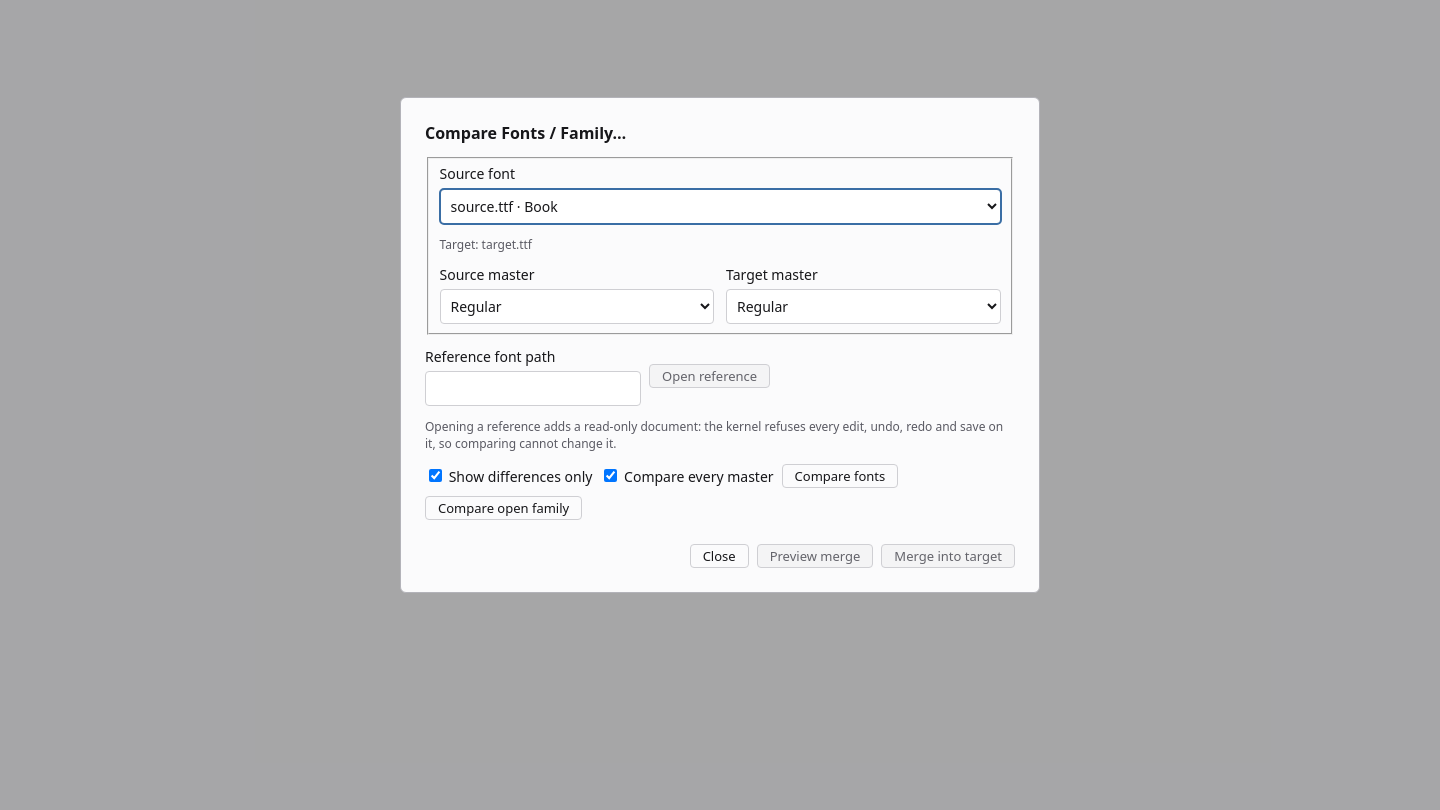
Scenario: opens a reference binary read-only and says so beside the source
In the field labelled "Reference font path": (533, 388) [425, 371, 641, 406], type "/fonts/Reference.otf"
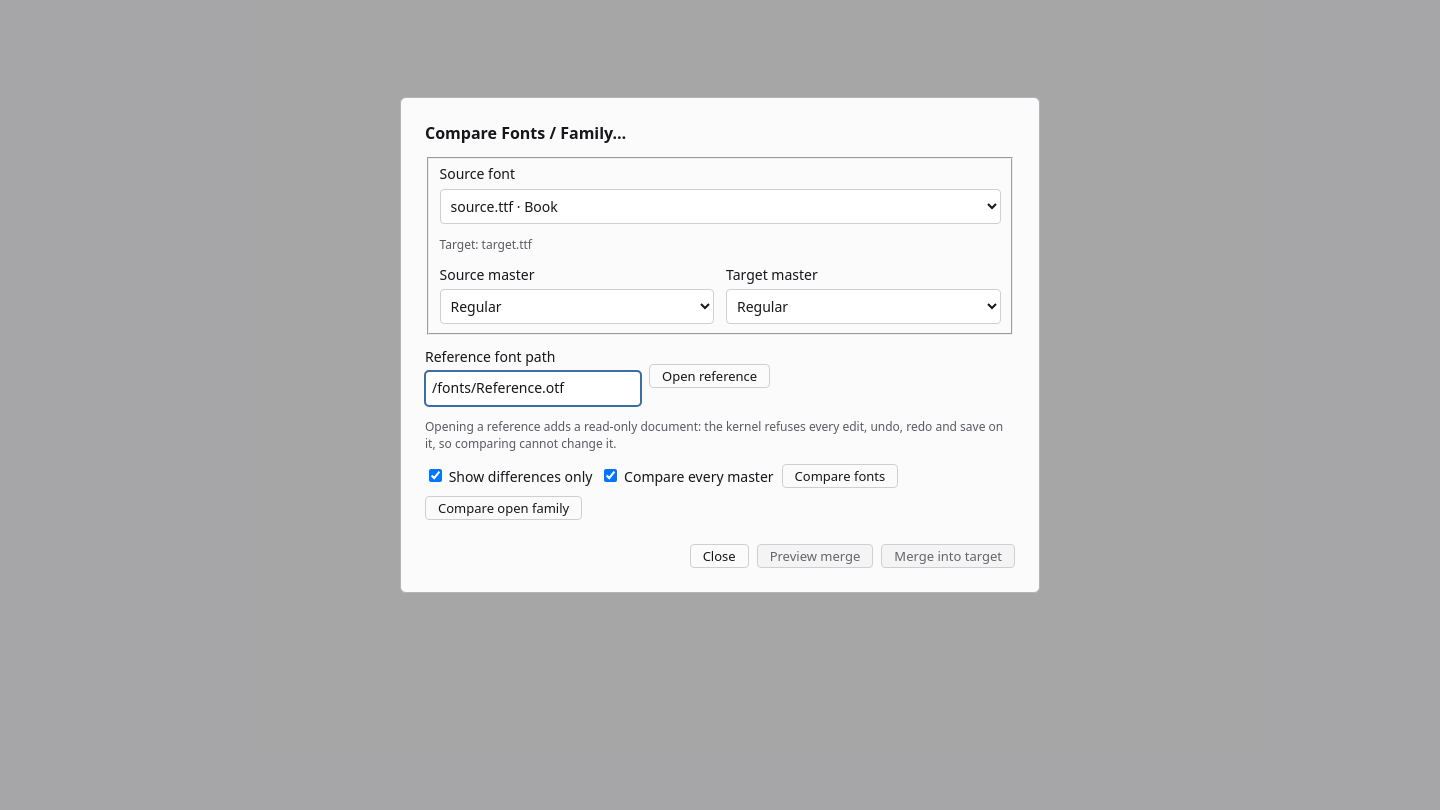
Click the button "Open reference": (710, 376) [649, 364, 770, 388]
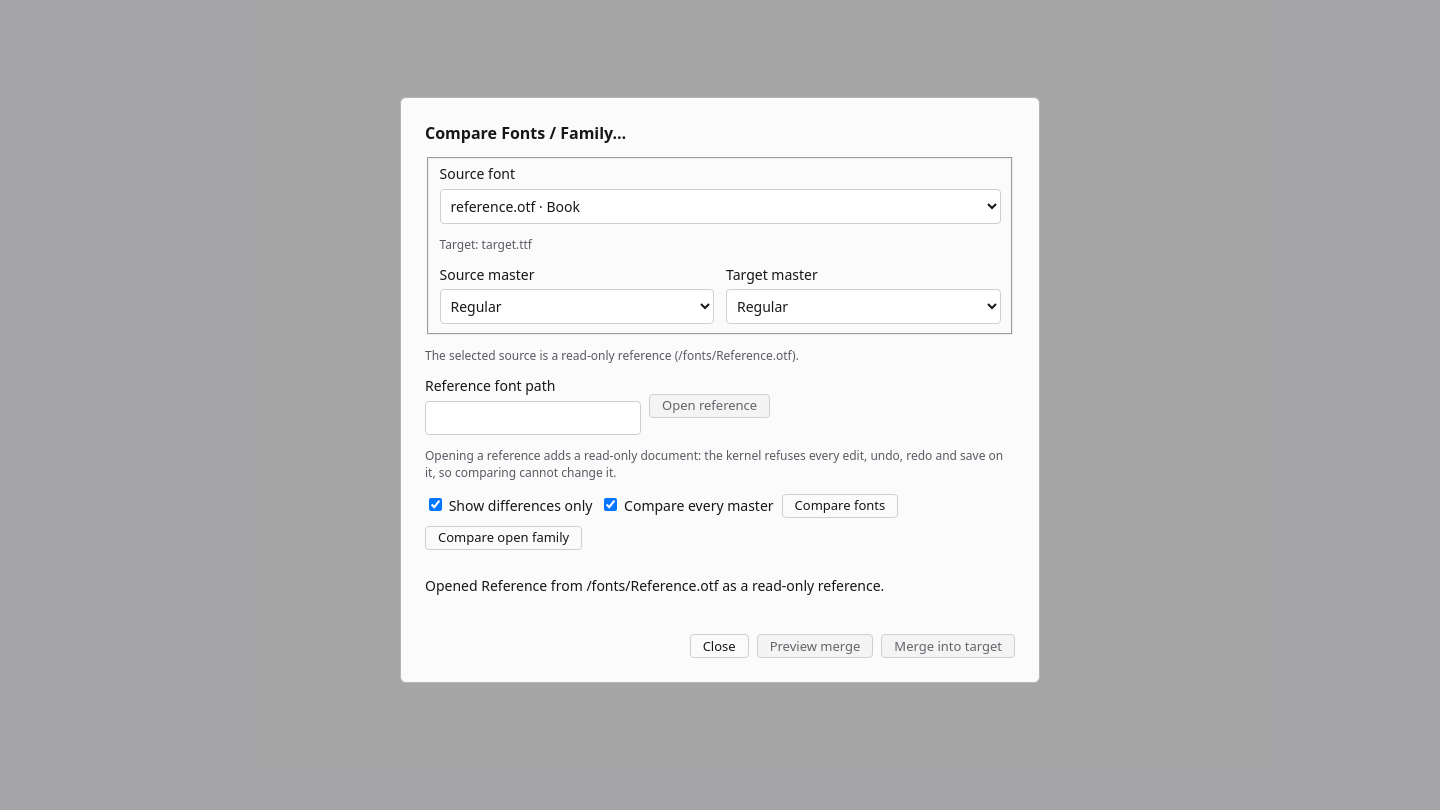
Check: the text "Opened Reference from /fonts/Reference.otf as a read-only reference." is shown, box [425, 576, 884, 595]
Check: the text "The selected source is a read-only reference (/fonts/Reference.otf)." is shown, box [425, 347, 799, 364]
Check: the dropdown labelled "Source font" shows "reference.otf · Book", box [440, 189, 1000, 224]
